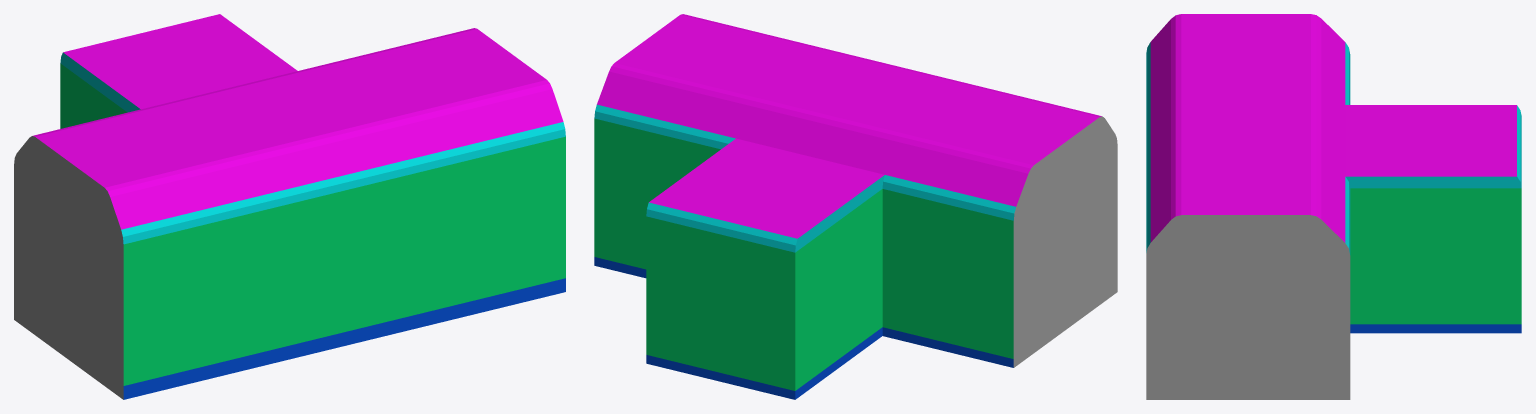
Rendered from T_Junction2.fbx.
3 views of the same model, side by side, from view 1: azimuth 30°, elevation 25°; view 2: azimuth 150°, elevation 25°; view 3: azimuth 270°, elevation 25° (orthographic). The views are drawn at different scales.
Visible parts, largest first — view 1: pCube38; view 2: pCube38; view 3: pCube38.
Part boxes in pixels (x1=…): pCube38: x1=14, y1=14, x2=565, y2=399; pCube38: x1=594, y1=14, x2=1117, y2=399; pCube38: x1=1146, y1=14, x2=1521, y2=399.
Bounding box in the file's own units: 210 × 90 × 166.
